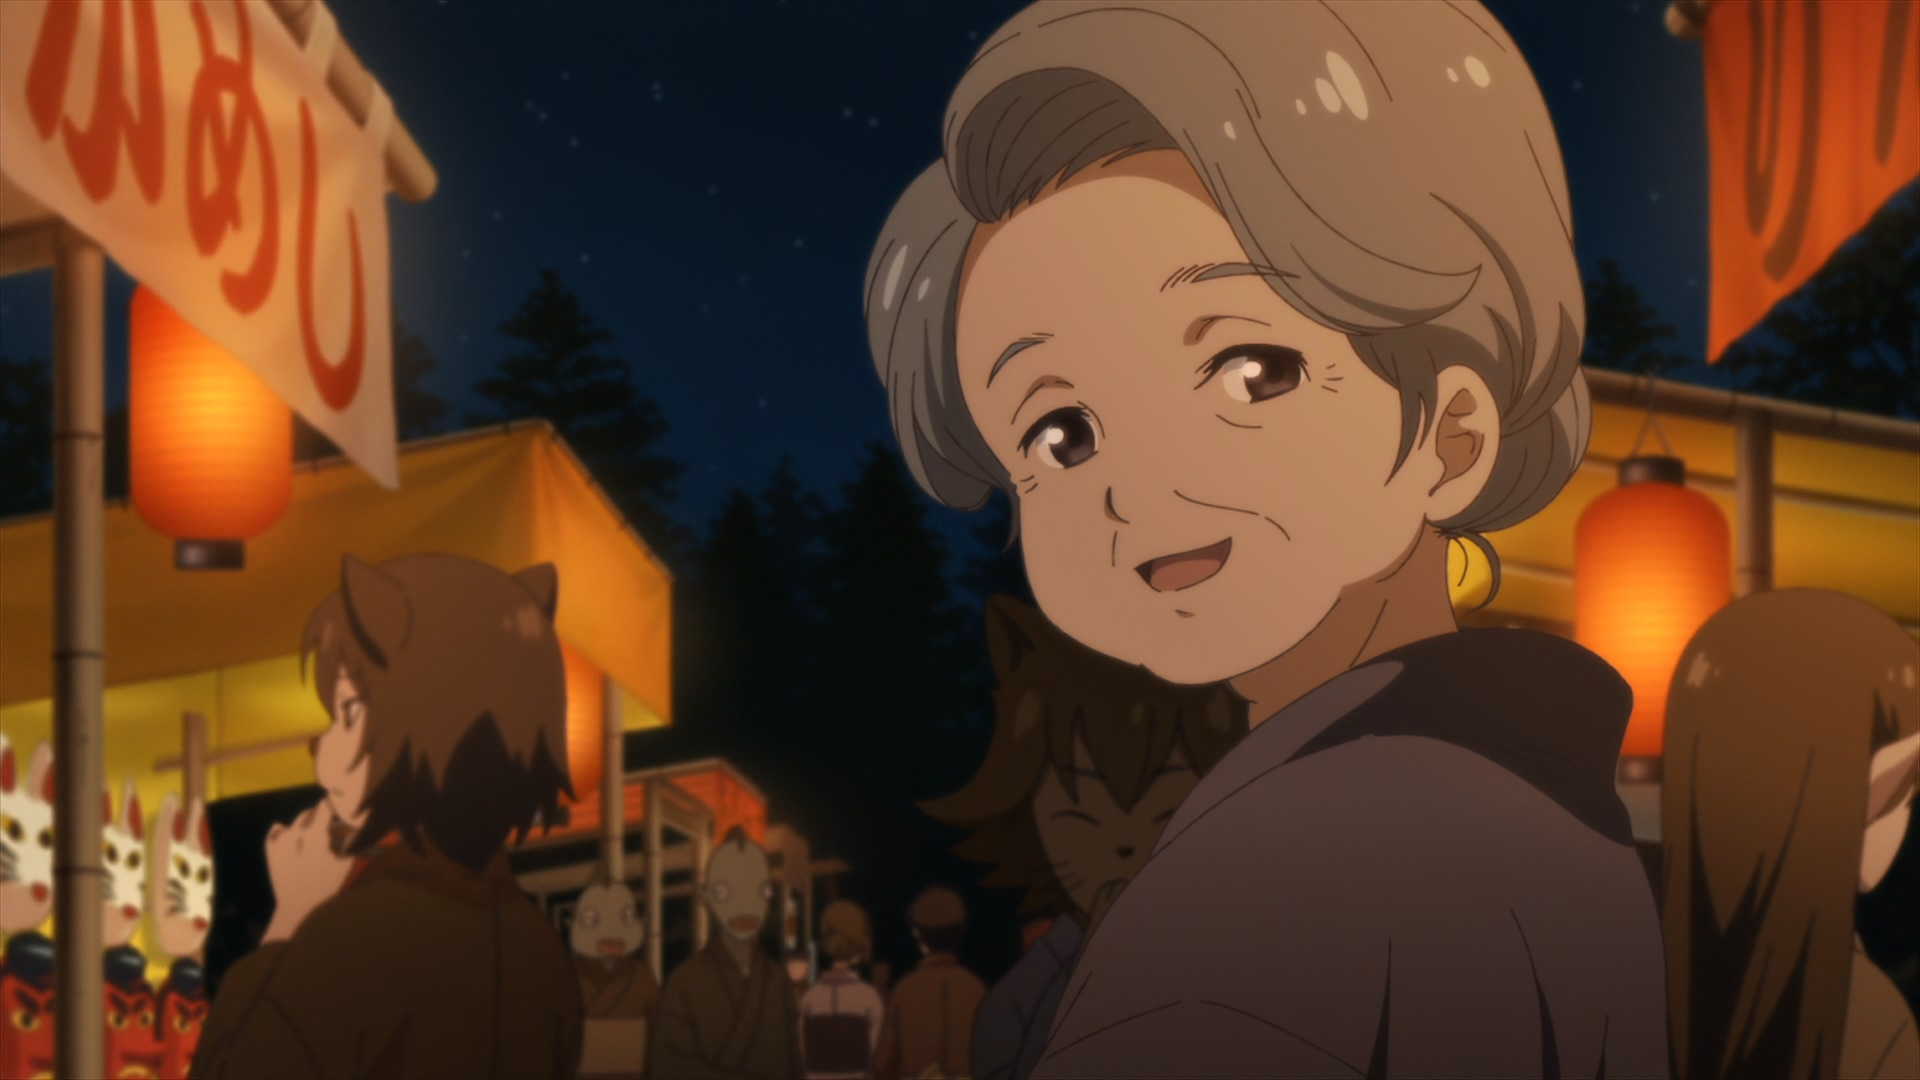其他: (860, 1, 1668, 1080), (193, 556, 582, 1080), (924, 596, 1251, 1080), (1662, 588, 1920, 1080), (653, 827, 798, 1080), (568, 868, 658, 1080), (891, 891, 982, 1080), (798, 901, 880, 1080)
